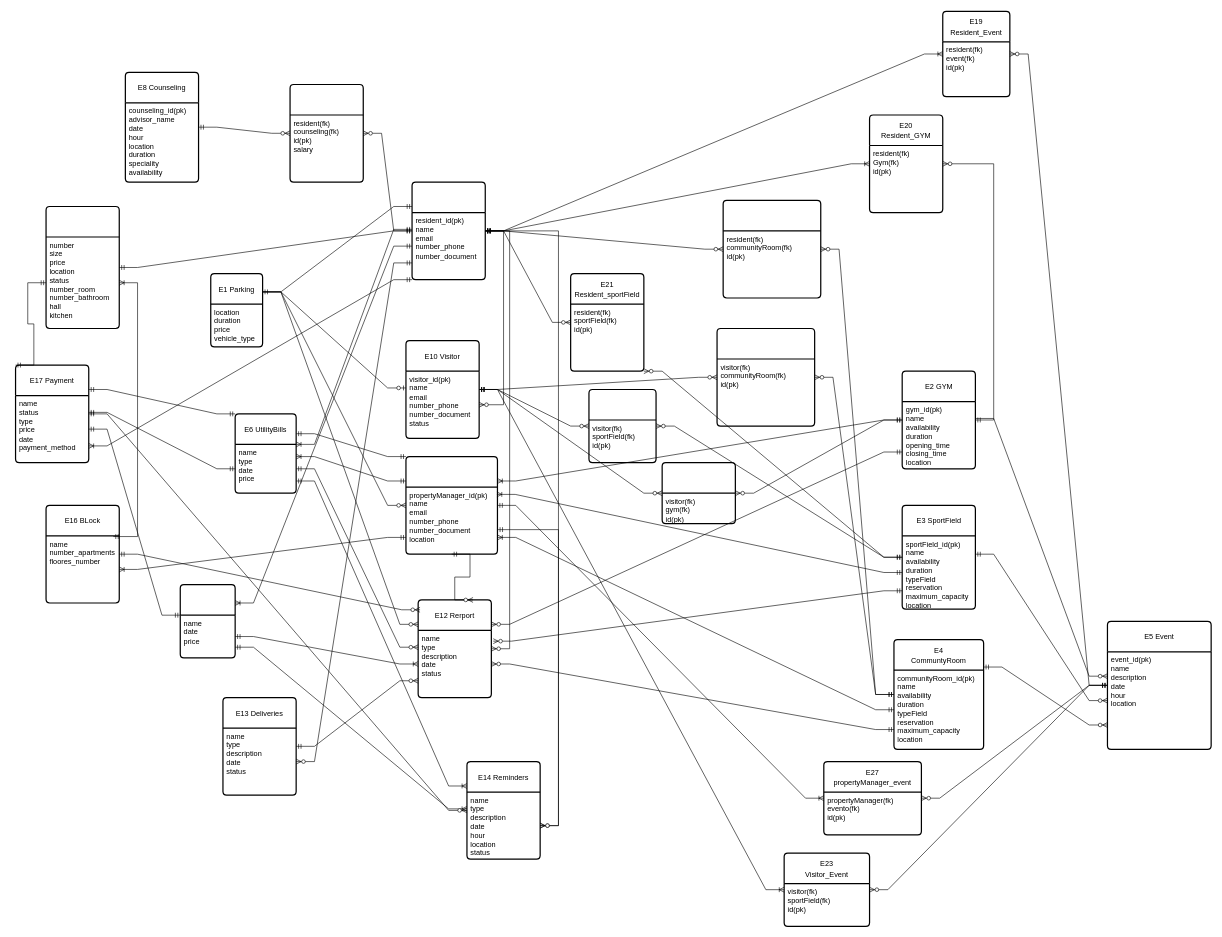
This 1222x937 diagram has some shape labels left out. The box of each missing label's shape, as (x1, y1, x2, y2) in pixels:
E11 PropertyManager: (405, 456, 498, 554)
E15 Apartment: (45, 206, 120, 329)
E18 Resident_Counseling: (289, 84, 364, 182)
E22 Resident_communityRoom: (722, 199, 821, 298)
E24 Visitor_GYM: (661, 462, 736, 524)
E25 Visitor_sportField: (588, 389, 656, 463)
E26 Visitor_CommunityRoom: (716, 328, 815, 426)
E7 HOAFees: (179, 584, 235, 658)
E9 Resident: (411, 181, 486, 280)
